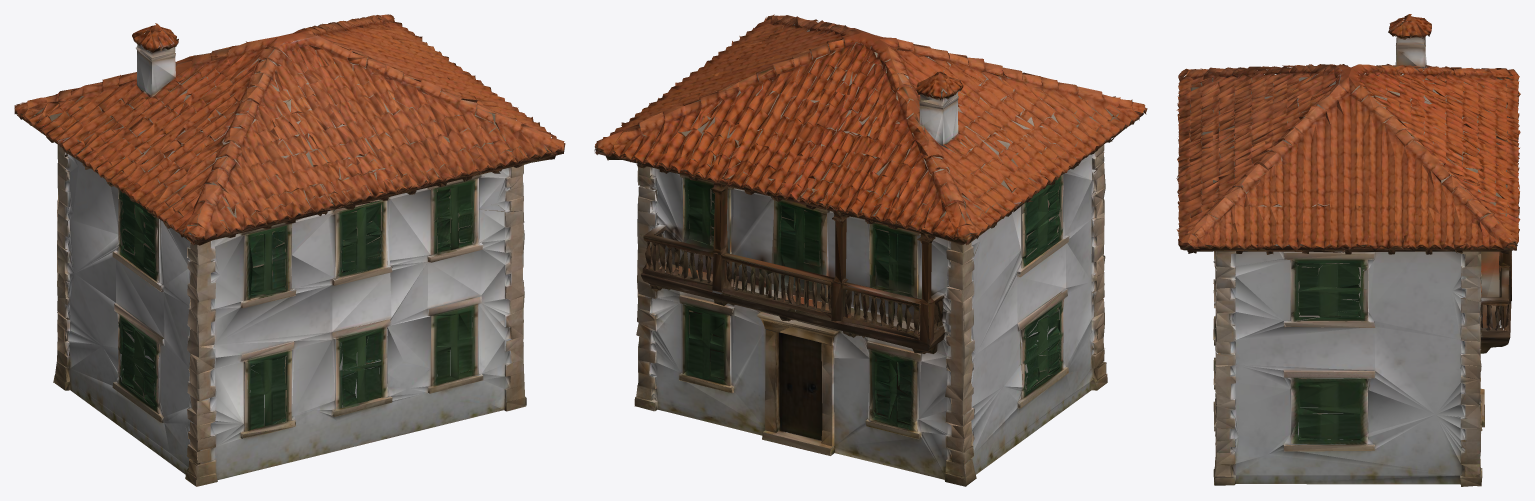
Rendered from house_white.gltf.
The picture shows the model from 3 angles, left to right: view 1: azimuth 30°, elevation 25°; view 2: azimuth 150°, elevation 25°; view 3: azimuth 270°, elevation 25°; orthographic projection. The views are drawn at different scales.
Visible parts, largest first — view 1: house_white; view 2: house_white; view 3: house_white.
Boxes of the visible parts, bbox=[...] form: house_white: bbox=[14, 14, 565, 486]; house_white: bbox=[594, 14, 1147, 486]; house_white: bbox=[1176, 14, 1520, 486].
Size of the model in its own units: 8.07 by 7.52 by 6.71.
Materials: 1 (1 with a texture image).
